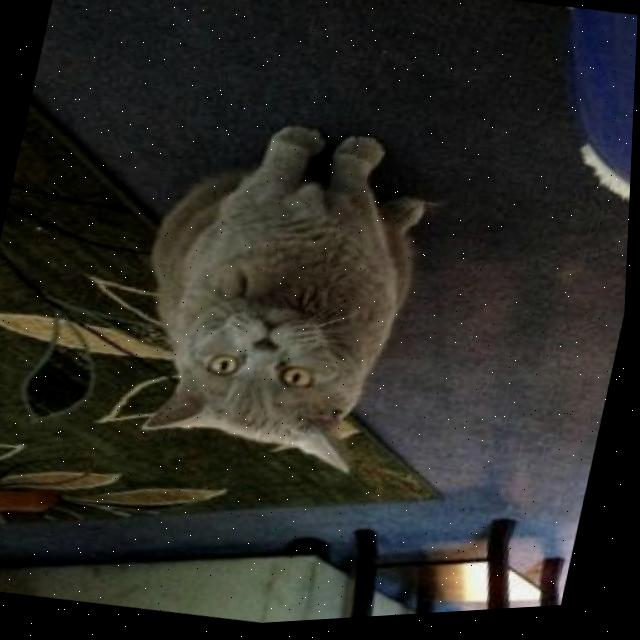British Shorthair: (106, 96, 457, 496)
